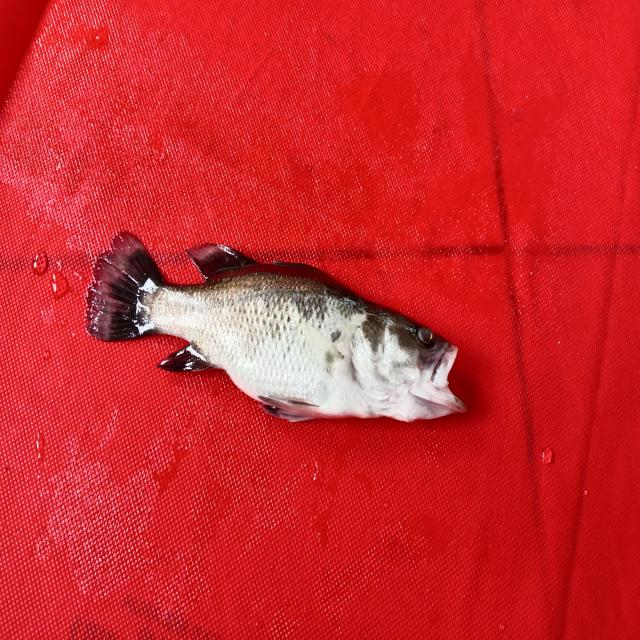ikan: (78, 213, 480, 449)
